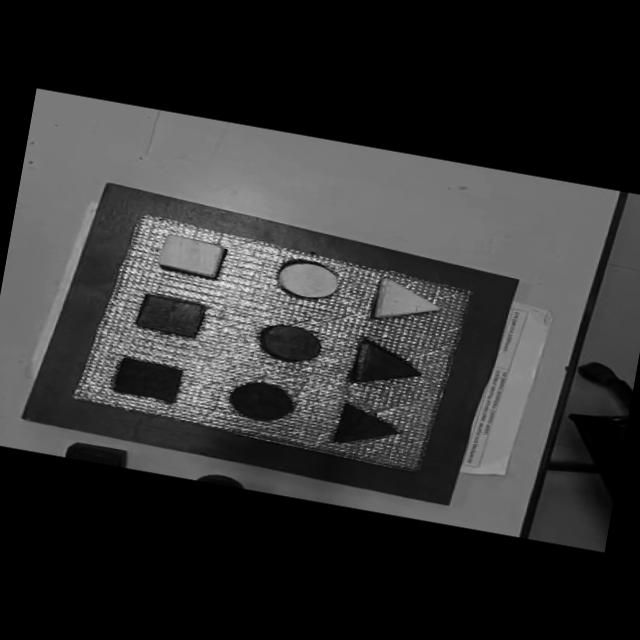bcircle: (196, 470, 244, 489)
bcube: (65, 439, 130, 468)
mtcircle: (224, 377, 300, 428)
mtcube: (110, 354, 186, 405)
mttriangle: (330, 401, 406, 454)
rcircle: (255, 320, 325, 367)
rcube: (132, 291, 210, 341)
rtriangle: (350, 339, 425, 393)
wb: (70, 206, 474, 477)
ycircle: (272, 256, 343, 305)
ycube: (152, 231, 228, 282)
ytriangle: (368, 274, 444, 330)
